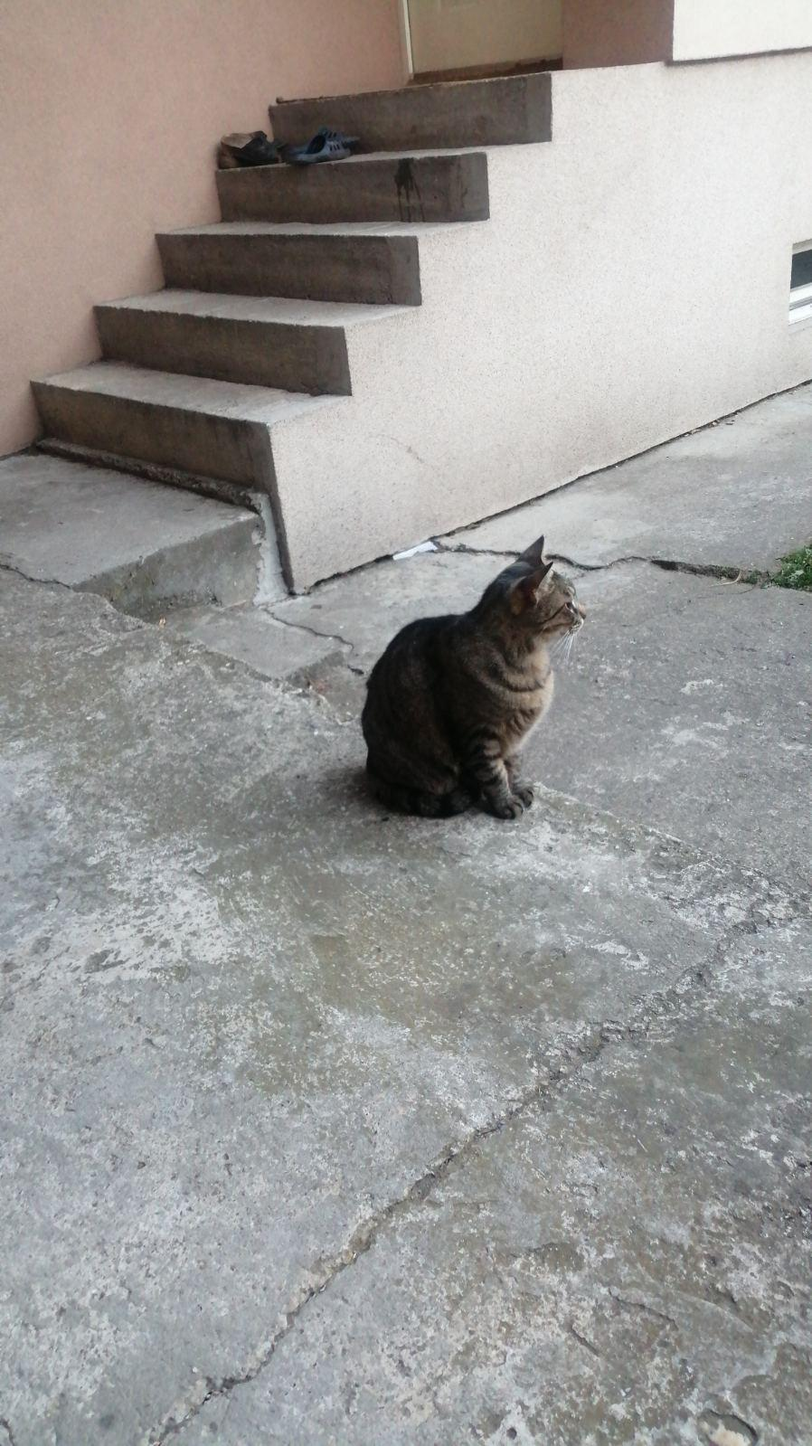macka: (361, 535, 588, 820)
